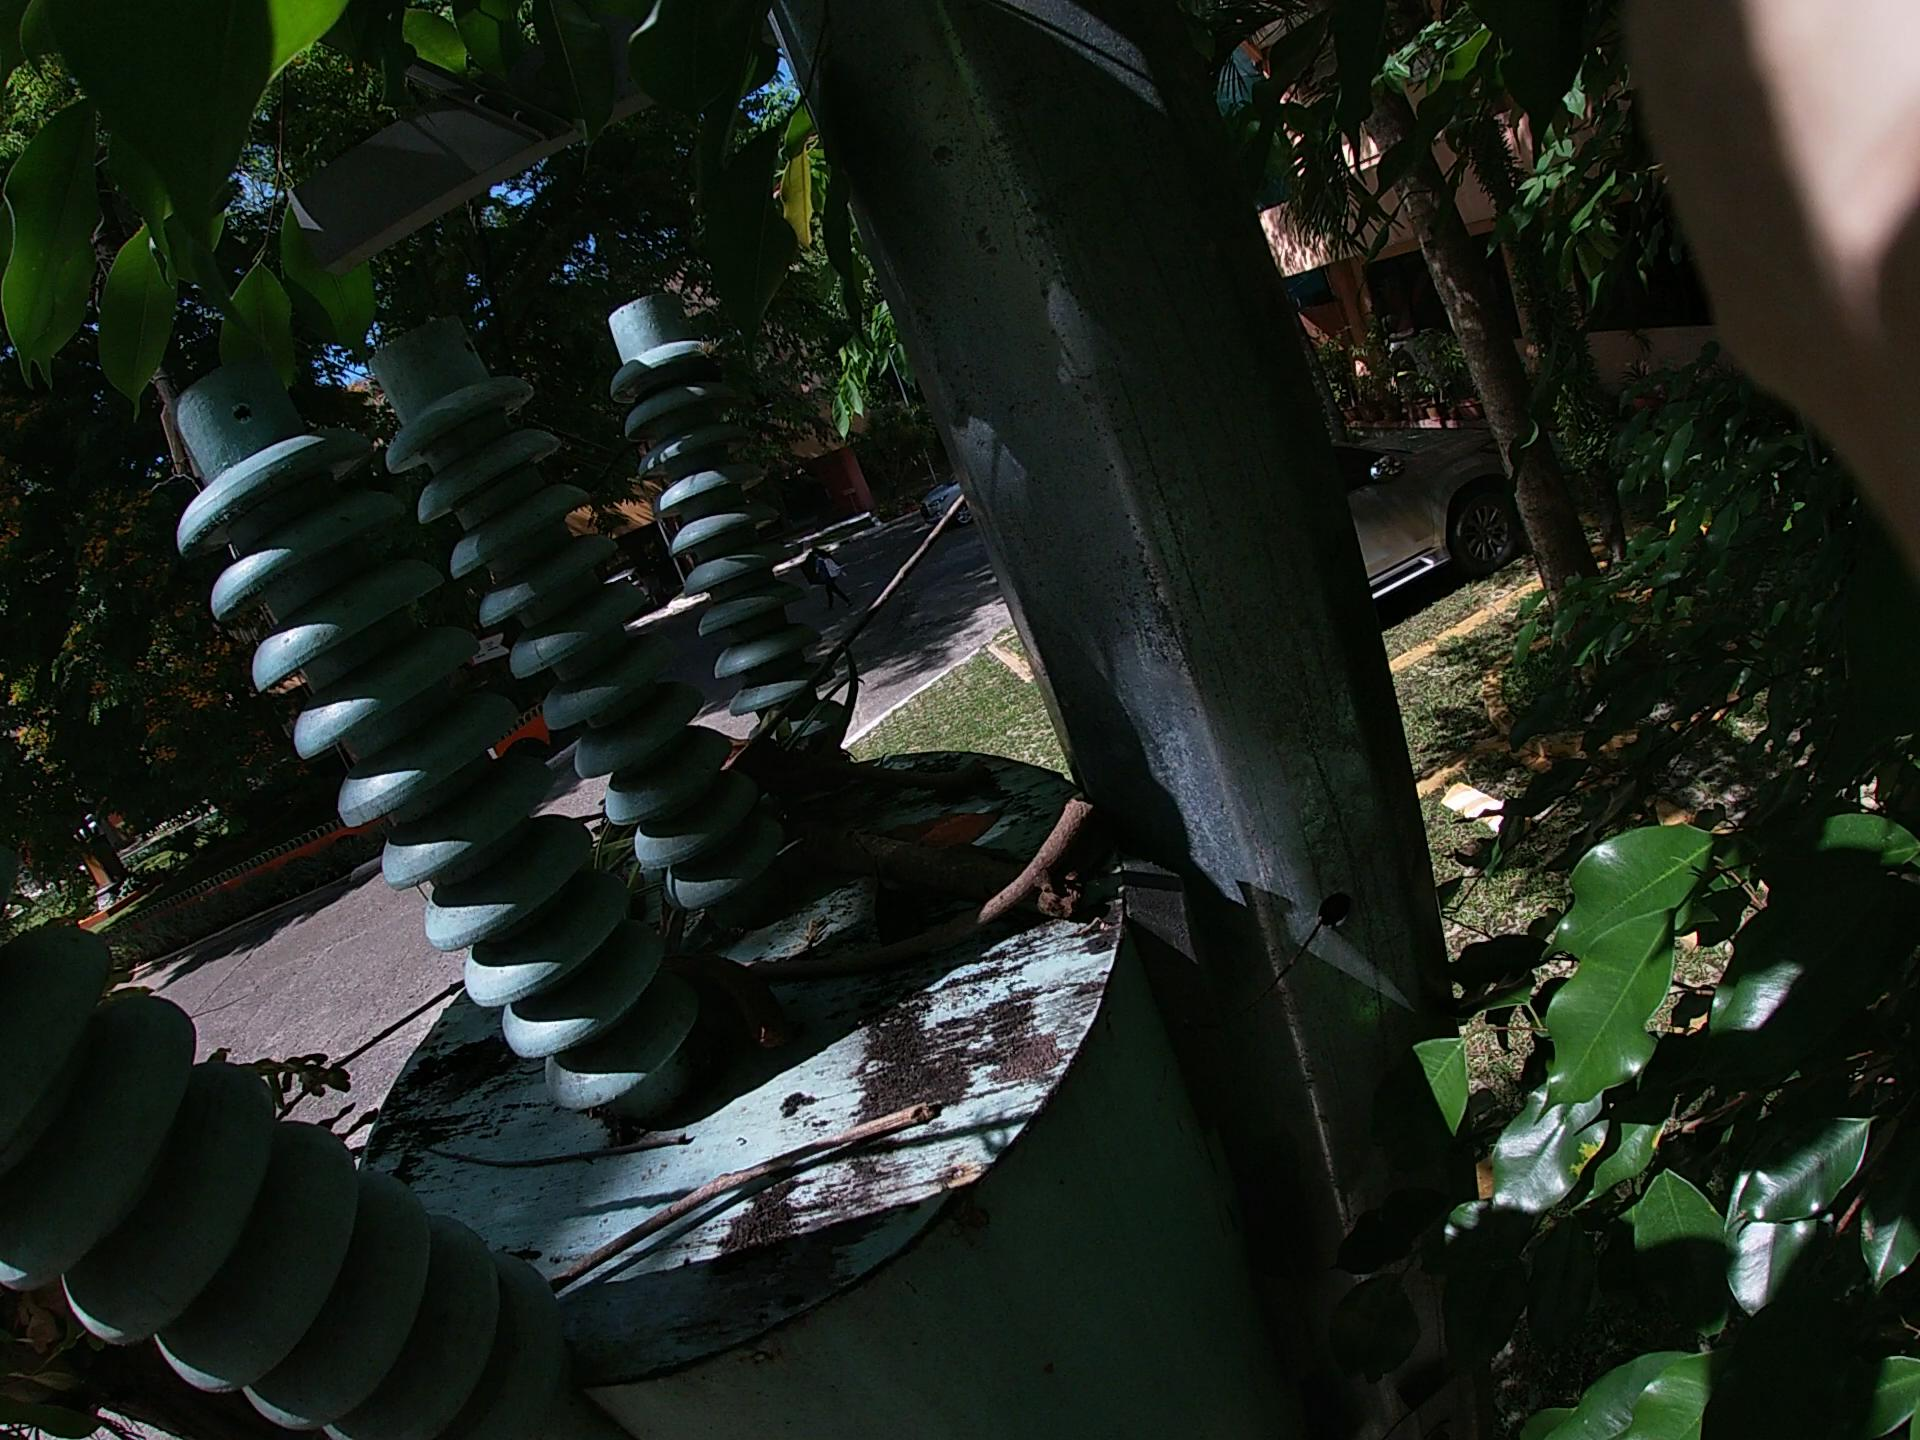branch with leaves: (763, 526, 890, 802)
leaf: (841, 781, 1045, 873)
mahogany fruit: (683, 909, 921, 1069)
tree branch: (296, 517, 939, 1103), (550, 1035, 1019, 1336), (788, 805, 1138, 989)
